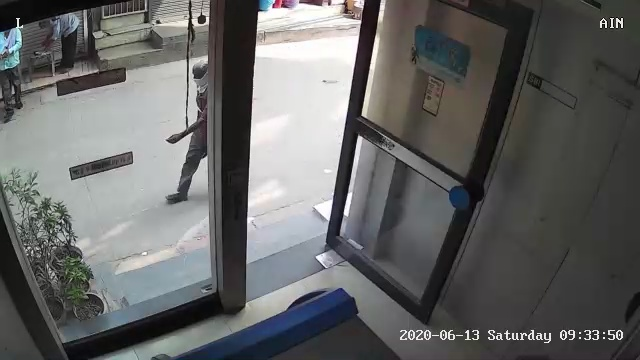open: (186, 9, 541, 328)
